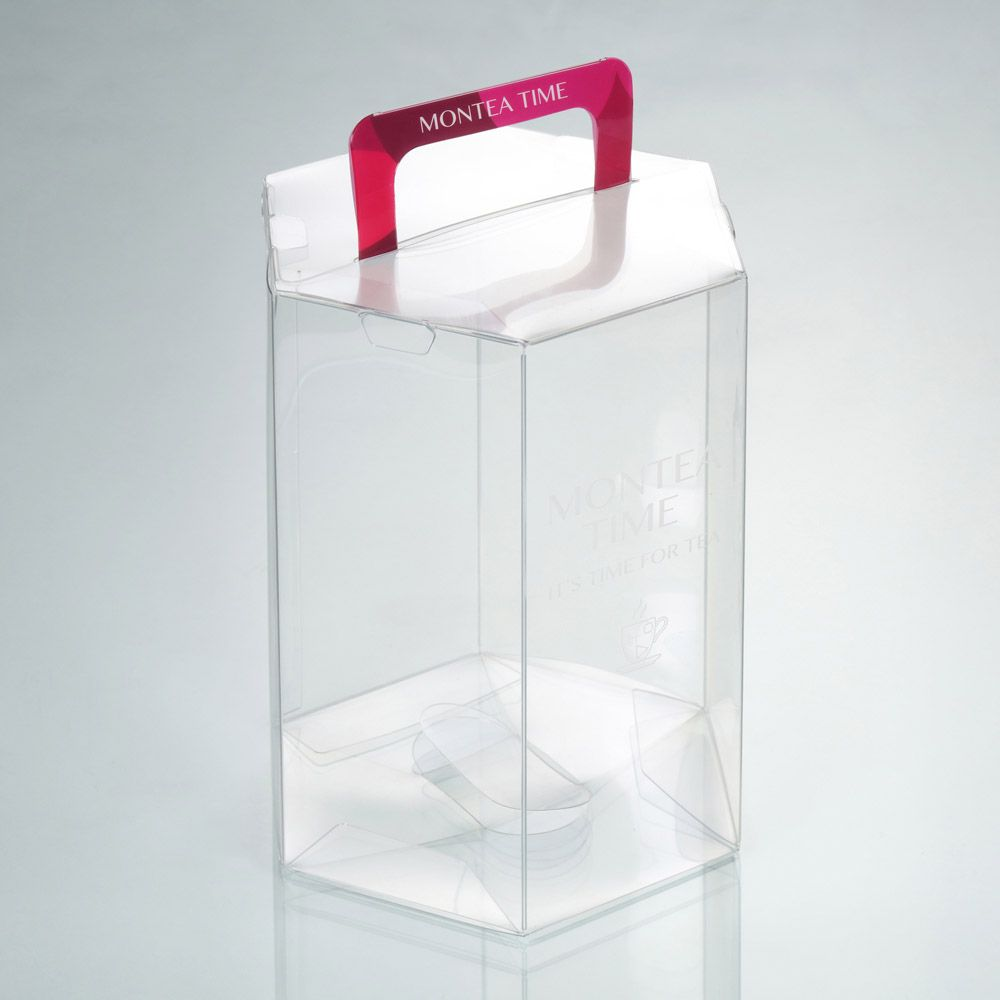PlasticBox: (246, 52, 762, 945)
